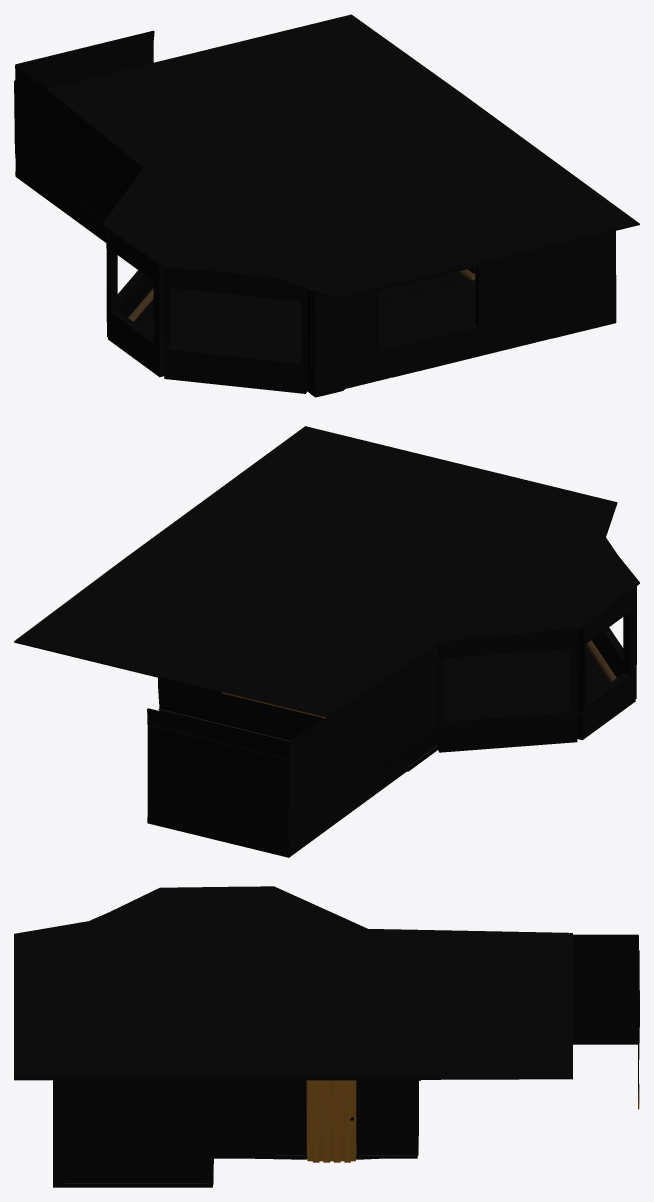
Rendered from Spoopy_houseV2.fbx.
3 renders of one model, top to bottom at view 1: azimuth 30°, elevation 25°; view 2: azimuth 150°, elevation 25°; view 3: azimuth 270°, elevation 25°, orthographic. The views are drawn at different scales.
Visible parts, largest first — view 1: House; view 2: House; view 3: House.
Part boxes in pixels (left/top/right/bottom): House: left=14, top=14, right=639, bottom=397; House: left=14, top=426, right=639, bottom=857; House: left=14, top=886, right=639, bottom=1187.
Bounding box in the file's own units: 12731 × 3450 × 17488.
